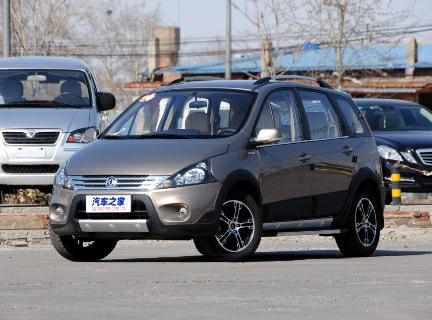东风风行-景逸SUV: (41, 76, 391, 267)
